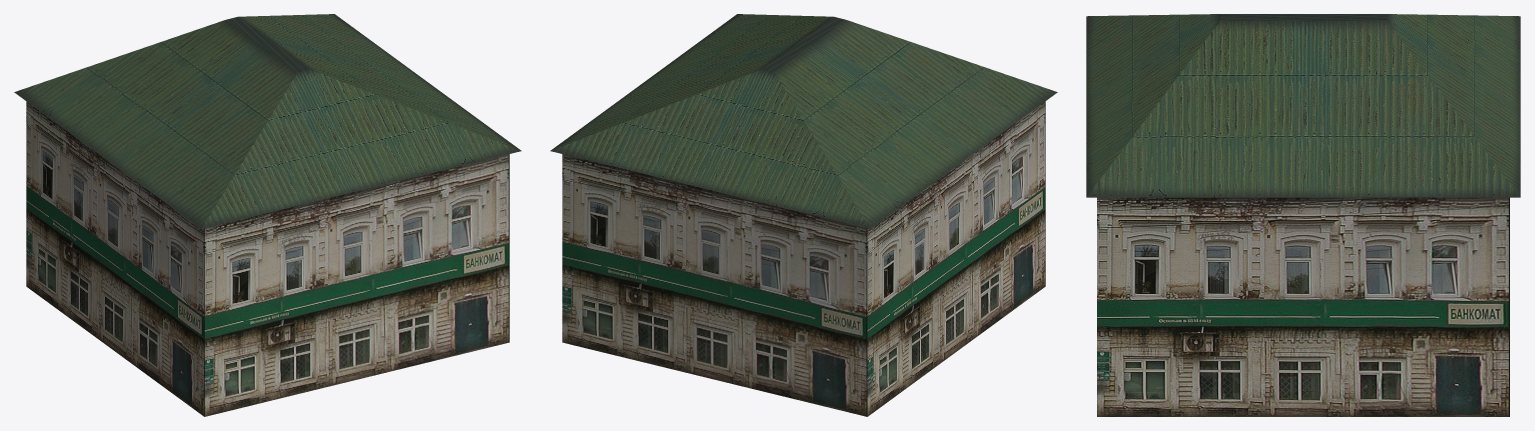
The model's file is d_dom_2et_47.FBX.
3 views of the same model, side by side, from view 1: azimuth 30°, elevation 25°; view 2: azimuth 150°, elevation 25°; view 3: azimuth 270°, elevation 25° (orthographic). The views are drawn at different scales.
Parts seen in each view (by area): view 1: d_dom_2et_47; view 2: d_dom_2et_47; view 3: d_dom_2et_47.
Part boxes in pixels (x1,y1,x2,y2): d_dom_2et_47: (14,14,521,416); d_dom_2et_47: (550,14,1057,416); d_dom_2et_47: (1086,14,1520,416).
Size of the model in its own units: 10.65 by 10.77 by 8.57.
